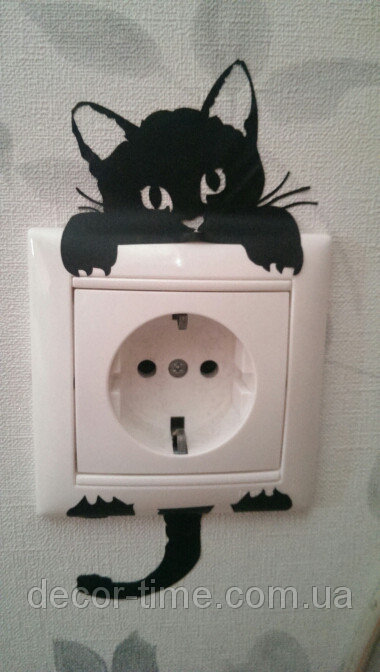raccoon: (105, 302, 258, 460)
